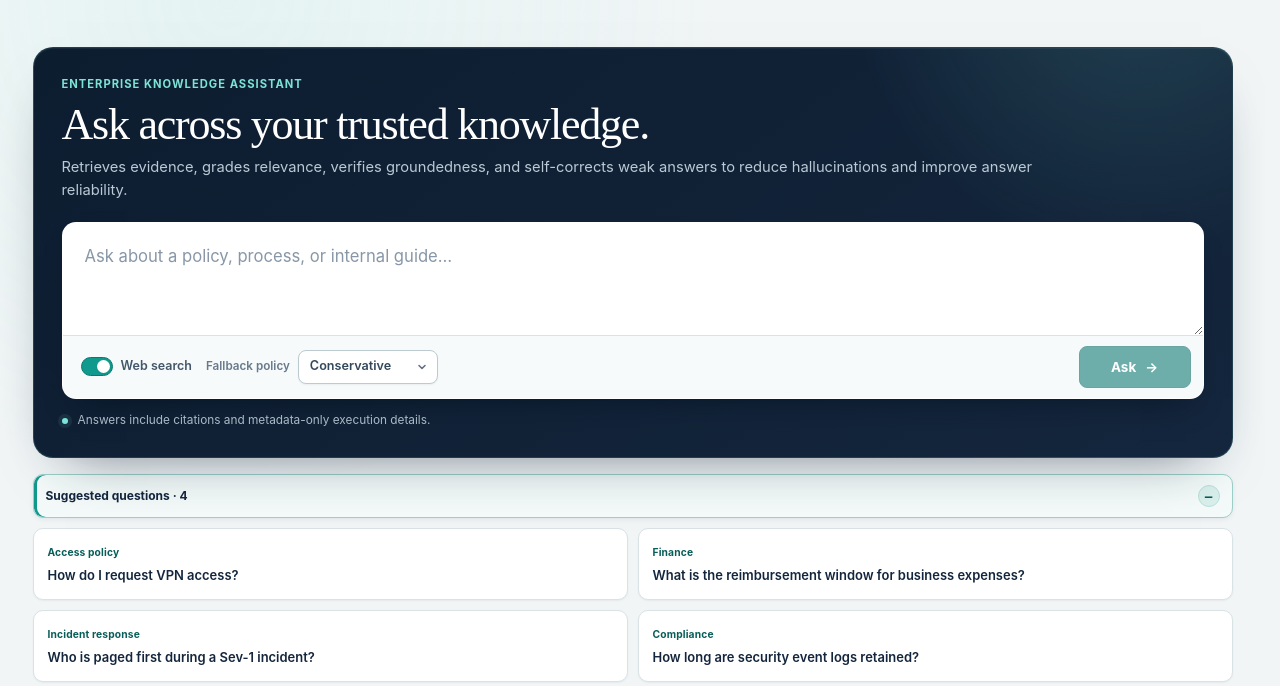
Scenario: AskPage › shows the busy message returned by a 409 response
Type "What is the expense policy?" into the text box named "Question" at (632, 279), box [62, 223, 1202, 334]
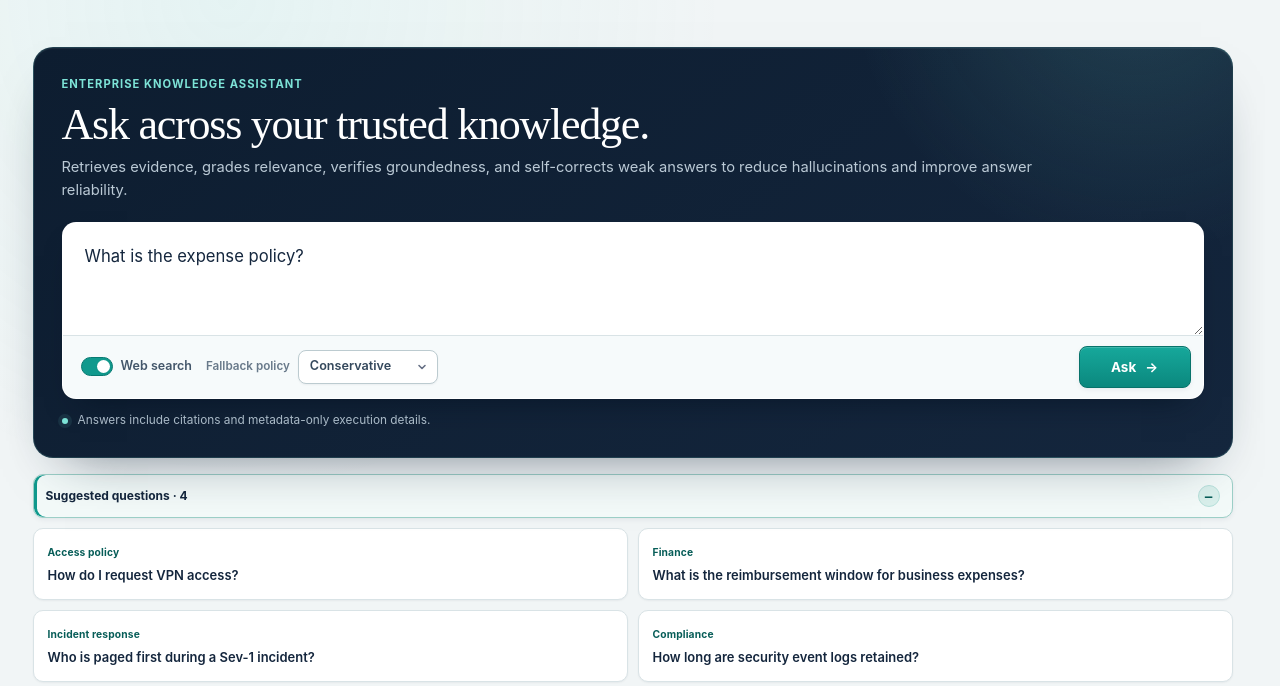
Click the button "Ask →" at (1134, 367), box [1078, 346, 1190, 388]
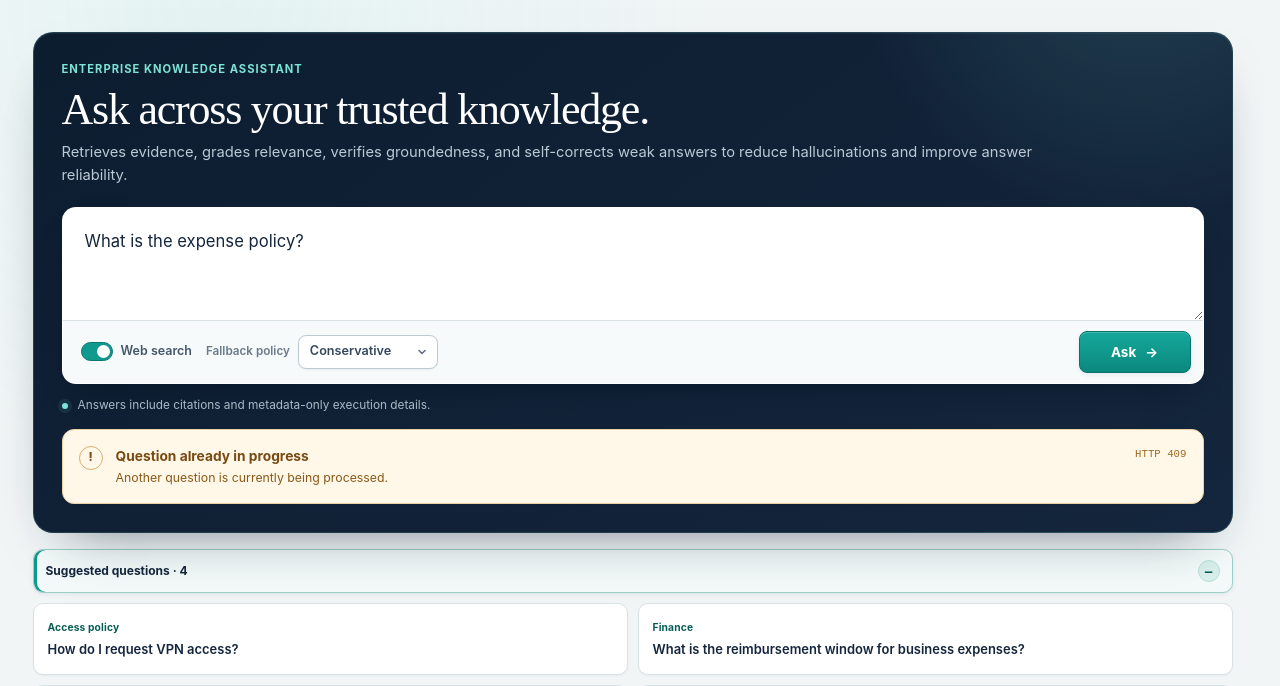
Result: the text "Another question is currently being processed." is shown at [116, 470, 388, 485]
Result: the element with class "ask-error" is shown at [62, 429, 1204, 504]
